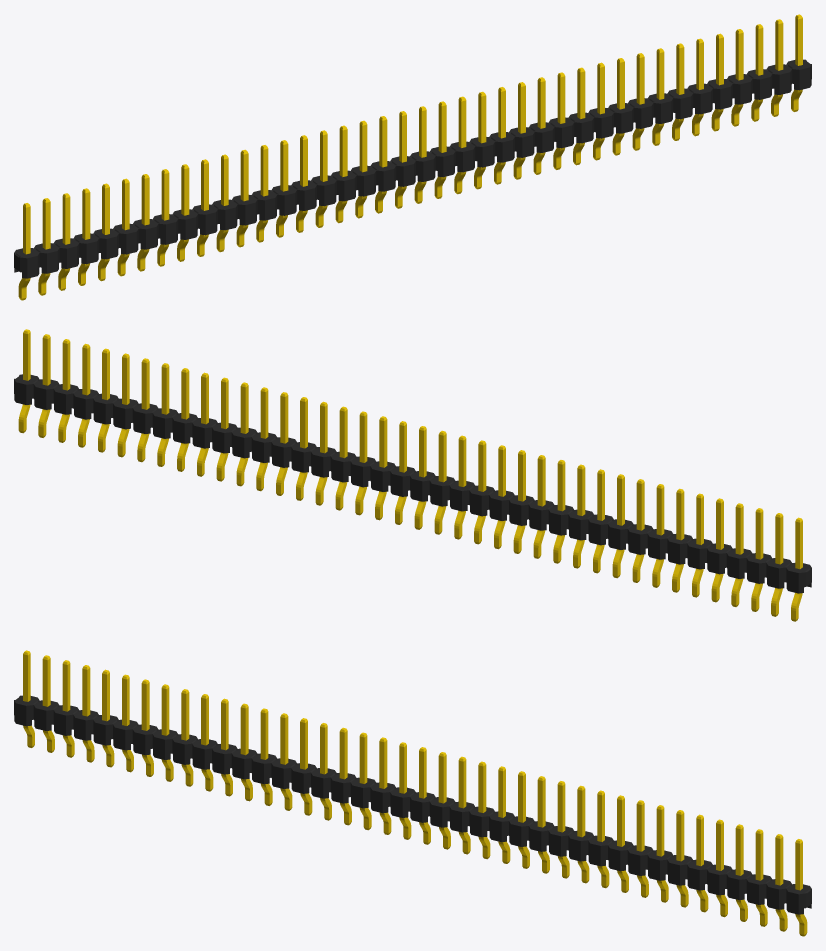
The model's file is DS1025 (PLS-40T CONNFLY).obj.
3 renders of one model, top to bottom at view 1: azimuth 30°, elevation 25°; view 2: azimuth 150°, elevation 25°; view 3: azimuth 330°, elevation 25°, orthographic.
Parts seen in each view (by area): view 1: DS1025_(PLS-40T_CONNFLY); view 2: DS1025_(PLS-40T_CONNFLY); view 3: DS1025_(PLS-40T_CONNFLY).
Part boxes in pixels (x1,y1,x2,y2): DS1025_(PLS-40T_CONNFLY): [14, 14, 811, 300]; DS1025_(PLS-40T_CONNFLY): [14, 329, 811, 621]; DS1025_(PLS-40T_CONNFLY): [14, 650, 811, 936].
Bounding box in the file's own units: 0.0151 × 0.0018 × 0.000377.
